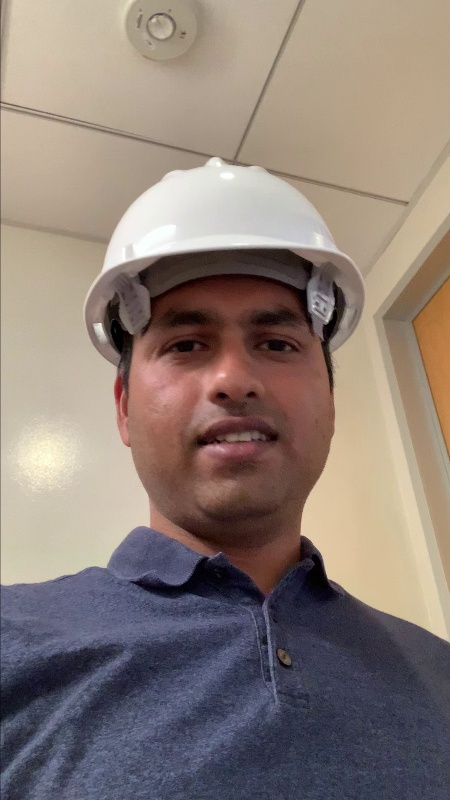helmet: (61, 149, 380, 338)
